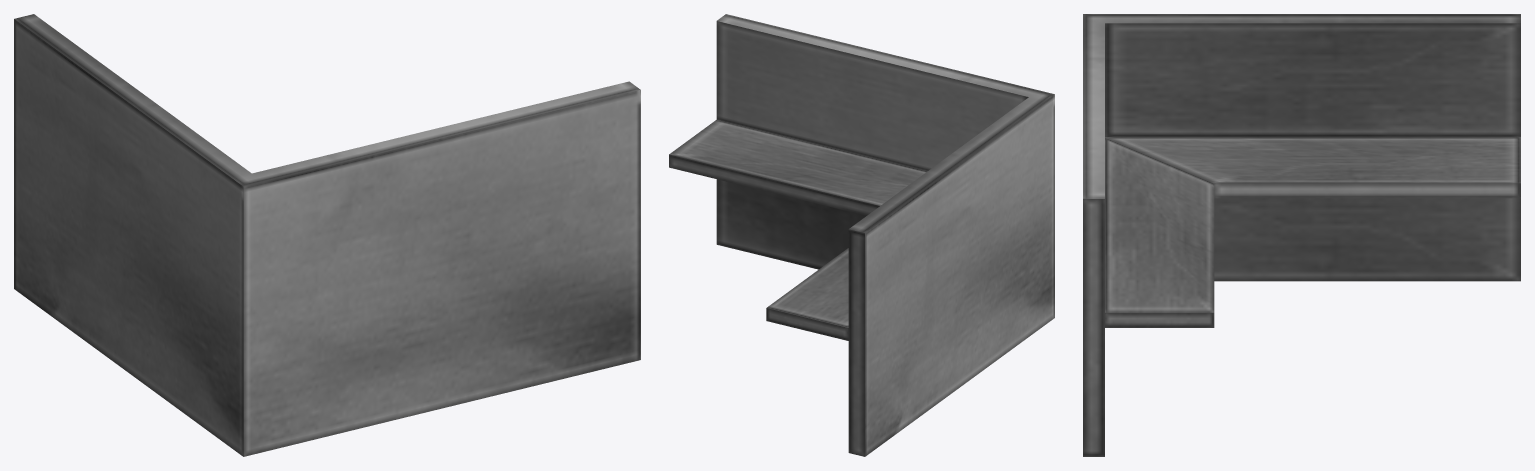
The model's file is SM_SYD_Cubicle01.fbx.
The picture shows the model from 3 angles, left to right: view 1: azimuth 30°, elevation 25°; view 2: azimuth 150°, elevation 25°; view 3: azimuth 270°, elevation 25°; orthographic projection. The views are drawn at different scales.
Parts seen in each view (by area): view 1: SM_SYD_Cubicle01; view 2: SM_SYD_Cubicle01; view 3: SM_SYD_Cubicle01.
Boxes of the visible parts, x1,y1,x2,y2 form: SM_SYD_Cubicle01: [14, 14, 640, 456]; SM_SYD_Cubicle01: [669, 14, 1054, 456]; SM_SYD_Cubicle01: [1083, 14, 1520, 456].
Bounding box in the file's own units: 200 × 130 × 200.
